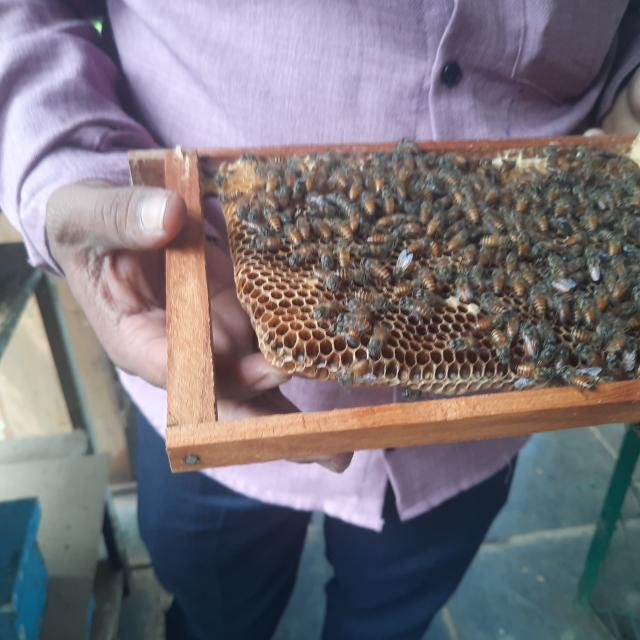honeybee: (510, 359, 557, 383), (562, 368, 603, 395), (445, 332, 486, 355), (361, 253, 393, 280), (336, 358, 369, 384), (367, 321, 390, 357), (308, 300, 344, 323), (458, 267, 479, 303), (465, 314, 509, 330), (334, 311, 372, 329), (290, 247, 321, 269), (334, 267, 373, 284), (481, 232, 513, 252), (574, 343, 603, 365), (331, 325, 366, 343), (400, 299, 434, 317), (252, 236, 286, 254), (445, 228, 470, 252), (260, 203, 282, 230), (570, 327, 603, 345), (294, 161, 314, 190), (357, 288, 389, 306), (522, 329, 539, 362), (552, 292, 572, 320), (479, 296, 513, 312), (527, 238, 559, 255), (346, 295, 373, 315), (586, 248, 604, 278), (331, 218, 353, 242), (337, 241, 354, 272), (415, 267, 436, 292), (390, 176, 411, 201), (368, 226, 397, 244), (391, 222, 420, 240), (496, 329, 512, 361), (393, 280, 421, 298), (423, 213, 444, 237), (608, 322, 626, 350), (608, 349, 626, 376), (291, 177, 309, 204), (507, 314, 522, 346), (314, 213, 330, 242), (551, 275, 574, 295), (406, 236, 430, 255), (488, 209, 507, 233), (547, 252, 566, 276), (556, 341, 574, 366), (214, 161, 231, 187), (393, 259, 412, 282), (284, 220, 300, 247), (346, 206, 362, 233), (531, 289, 547, 316), (583, 159, 601, 183), (238, 151, 268, 165), (435, 257, 454, 279), (552, 196, 574, 215), (613, 259, 631, 282), (593, 290, 610, 314), (609, 232, 623, 261), (451, 151, 472, 170), (573, 296, 587, 324), (216, 191, 242, 206), (362, 190, 377, 216), (348, 176, 363, 202), (624, 347, 637, 377), (574, 186, 590, 210), (520, 264, 536, 288), (581, 210, 600, 230), (462, 237, 476, 264), (319, 244, 333, 270), (504, 250, 518, 276), (536, 343, 556, 361), (497, 160, 518, 177), (537, 216, 555, 235), (610, 282, 629, 300), (404, 134, 424, 151), (516, 232, 529, 258), (298, 215, 312, 239), (584, 300, 596, 328), (510, 276, 525, 298), (483, 187, 501, 205), (596, 196, 612, 216), (381, 192, 396, 213), (398, 387, 424, 399), (236, 194, 248, 220), (493, 268, 506, 292), (467, 203, 481, 225), (625, 316, 640, 336), (398, 161, 411, 183), (511, 210, 524, 232), (442, 173, 462, 187), (548, 184, 560, 207), (373, 174, 386, 194), (421, 185, 437, 201), (515, 197, 531, 213), (272, 152, 293, 164), (528, 188, 542, 205), (429, 240, 442, 257), (452, 190, 465, 206), (336, 176, 350, 188)
